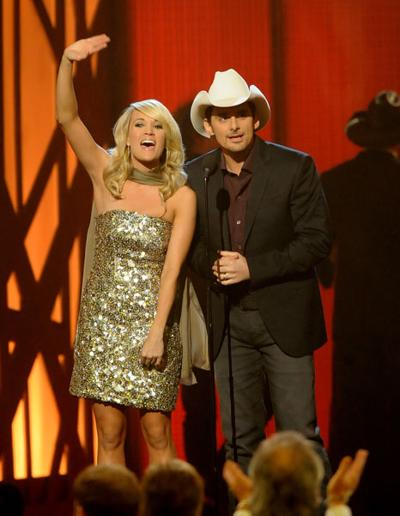person: (55, 34, 197, 477)
